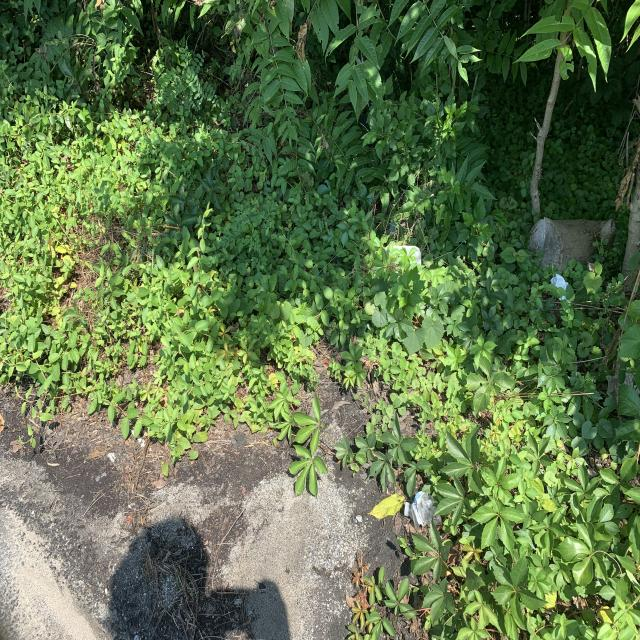Plastic: (406, 487, 436, 530)
Trash -everything else-: (380, 244, 423, 277), (548, 270, 575, 306)
